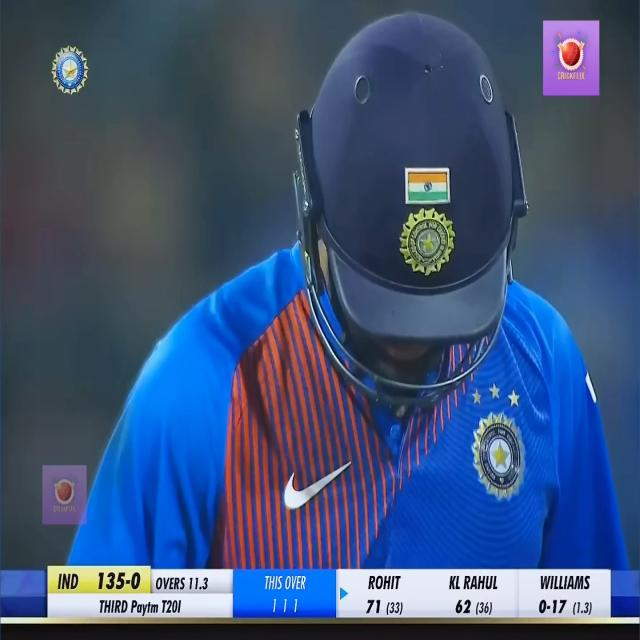fully_visible: (128, 591, 162, 619)
